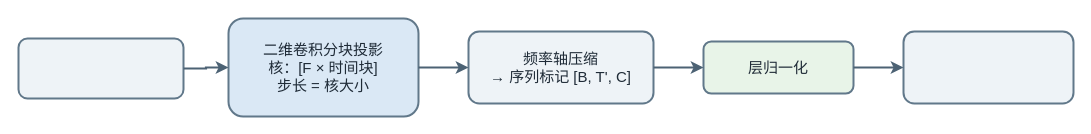
The diagram is 1091 pixels wide and 134 high, and some of its shapes have lost their labels. Each missing label, with the centre of its shape:
"丢弃层 → 标记序列输出" belongs at point (988, 67).
"对数梅尔频谱 [B, 1, F, T]" belongs at point (100, 68).
